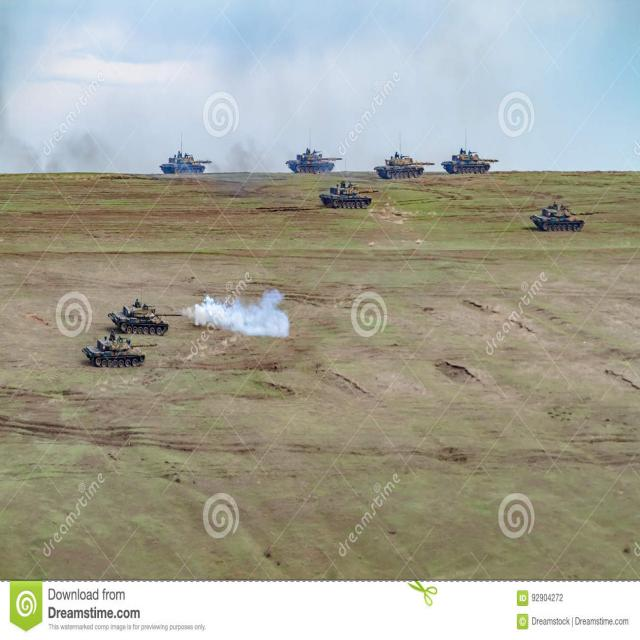tank: (108, 300, 169, 336), (82, 338, 146, 368), (318, 178, 373, 210), (374, 152, 435, 180), (441, 146, 499, 175), (530, 204, 585, 231), (286, 149, 342, 174), (160, 150, 212, 174)
